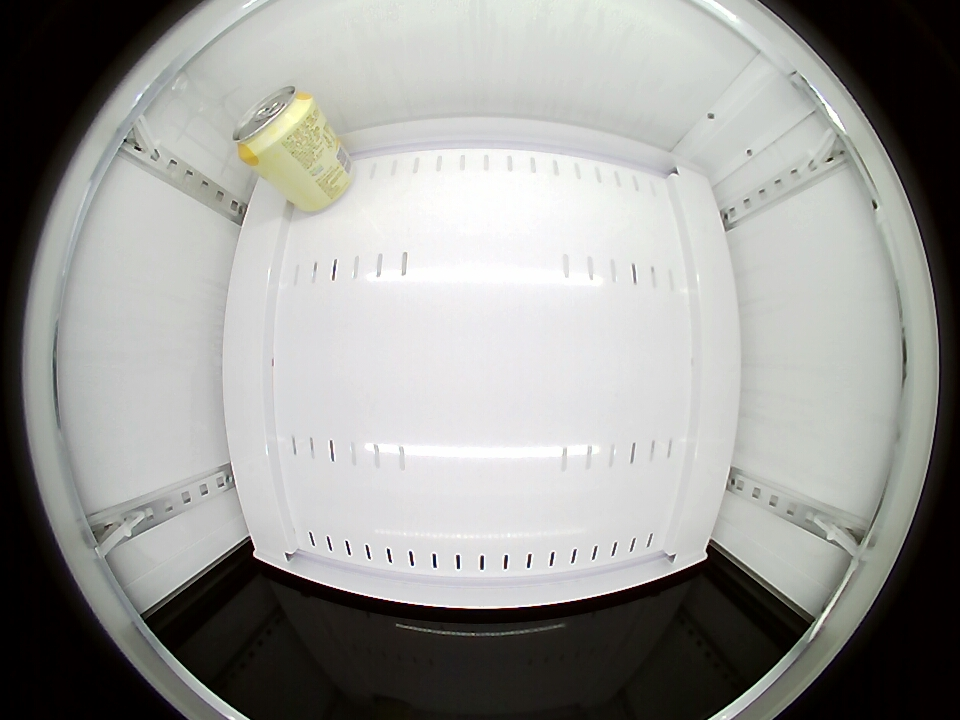mangguoxiaolao: (232, 86, 315, 164)
